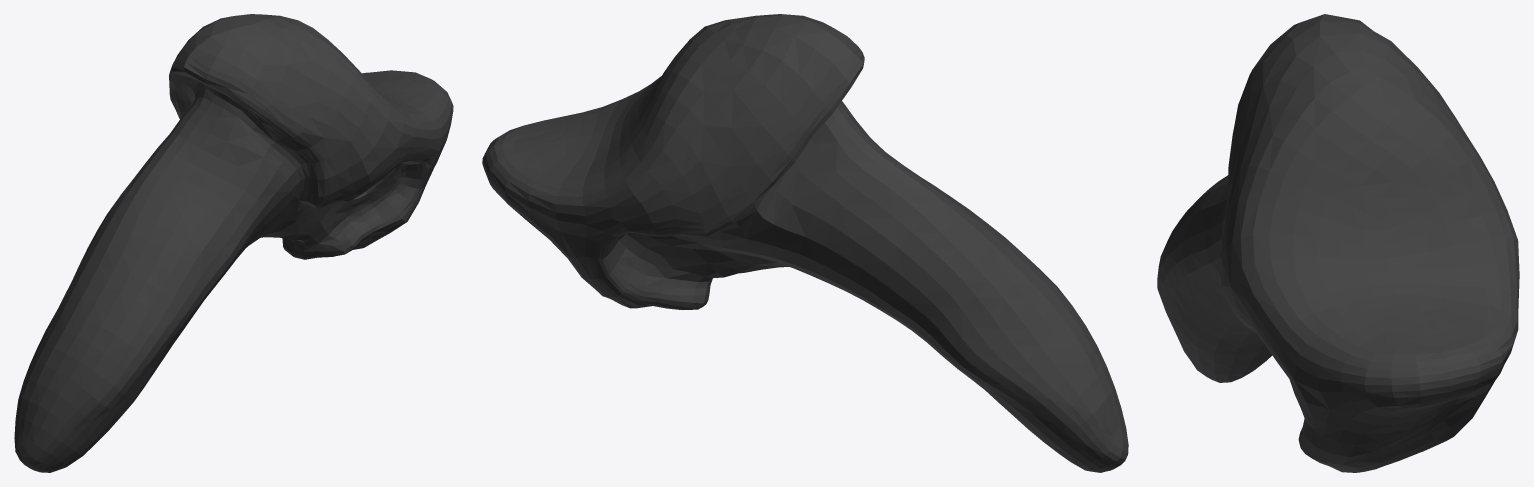
The model's file is distal_phalanx_V_L.glb.
3 renders of one model, left to right at view 1: azimuth 30°, elevation 25°; view 2: azimuth 150°, elevation 25°; view 3: azimuth 270°, elevation 25°, orthographic. The views are drawn at different scales.
Visible parts, largest first — view 1: distal_phalanx_V_L; view 2: distal_phalanx_V_L; view 3: distal_phalanx_V_L.
Part boxes in pixels (bbox=[...]): distal_phalanx_V_L: bbox=[14, 14, 453, 472]; distal_phalanx_V_L: bbox=[482, 14, 1128, 472]; distal_phalanx_V_L: bbox=[1157, 14, 1519, 472].
Size of the model in its own units: 0.0273 by 0.0195 by 0.0127.
Materials: 1 (1 with a texture image).
